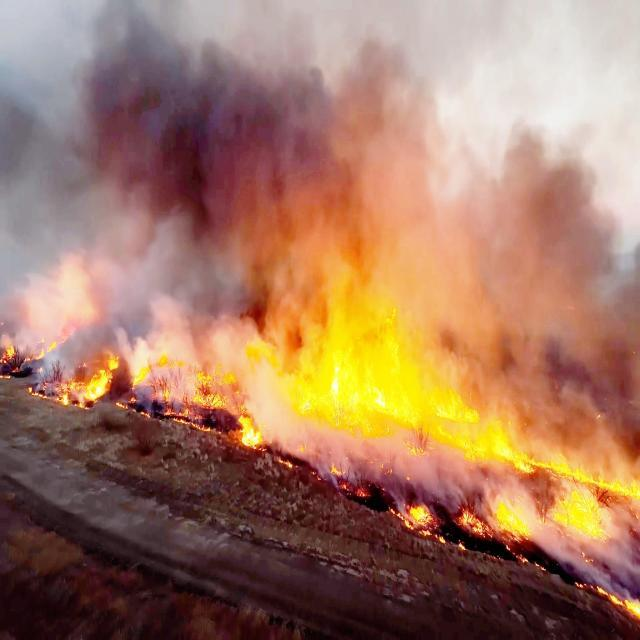Fire: (0, 285, 640, 619)
Smoke: (0, 1, 640, 291)
